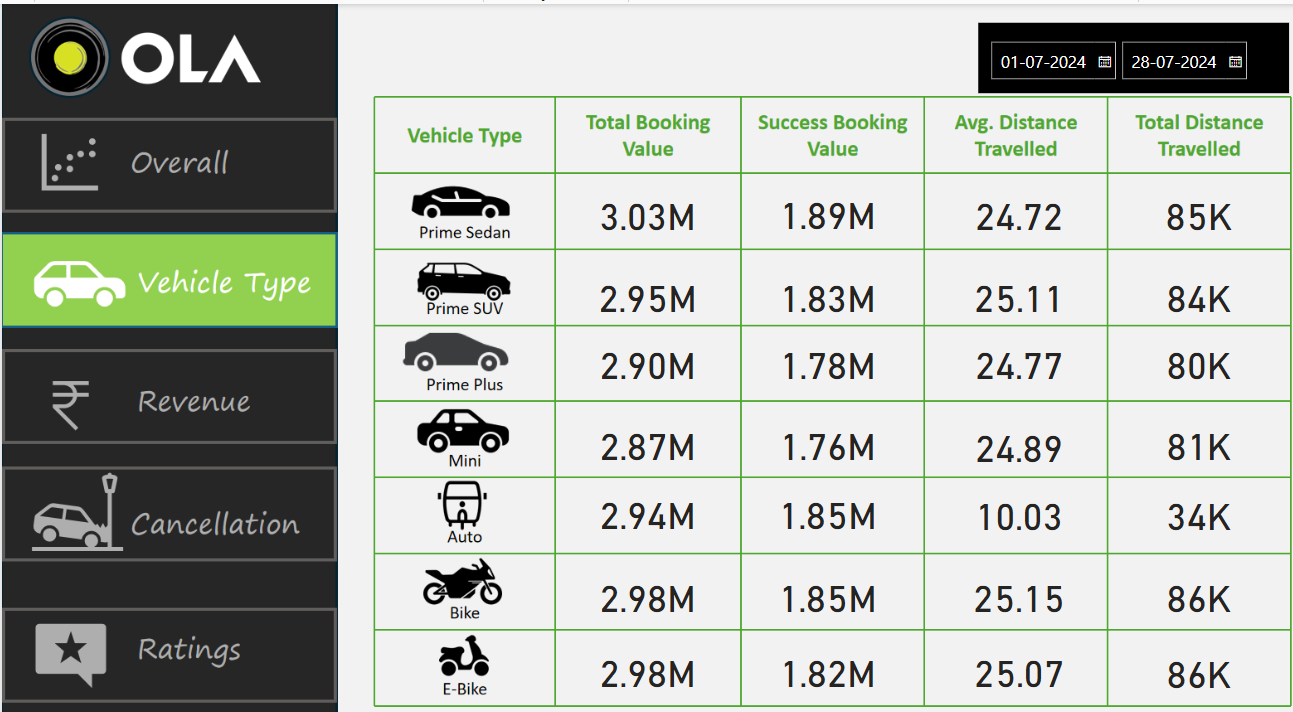

This screenshot's page, from the dashboard's own definition file:
{"tool":"powerbi","page":{"name":"Vehicle Type","canvas":[1280,720],"ordinal":1},"visuals":[{"type":"actionButton","box":[0,109.8,323.3,91.7],"z":0},{"type":"actionButton","box":[0,333,323.3,91.7],"z":1000},{"type":"actionButton","box":[0,446.4,323.3,91.7],"z":2000},{"type":"actionButton","box":[0,582.7,323.3,91.7],"z":3000},{"type":"card","fields":{"Values":["Sum(July.Booking_Value)"]},"box":[536.7,170,173.3,65],"z":4000},{"type":"card","fields":{"Values":["Sum(July.Booking_Value)"]},"box":[536.7,248.3,173.3,65],"z":5000},{"type":"card","fields":{"Values":["Sum(July.Booking_Value)"]},"box":[536.7,313.3,173.3,65],"z":6000},{"type":"card","fields":{"Values":["Sum(July.Booking_Value)"]},"box":[536.7,391.7,173.3,65],"z":7000},{"type":"card","fields":{"Values":["Sum(July.Booking_Value)"]},"box":[536.7,458.3,173.3,65],"z":8000},{"type":"card","fields":{"Values":["Sum(July.Booking_Value)"]},"box":[536.7,538.3,173.3,65],"z":9000},{"type":"card","fields":{"Values":["Sum(July.Booking_Value)"]},"box":[536.7,610,173.3,65],"z":10000},{"type":"card","fields":{"Values":["Sum(July.Booking_Value)"]},"box":[710,168.3,173.3,65],"z":11000},{"type":"card","fields":{"Values":["Sum(July.Booking_Value)"]},"box":[710,248.3,173.3,65],"z":12000},{"type":"card","fields":{"Values":["Sum(July.Booking_Value)"]},"box":[710,313.3,173.3,65],"z":13000},{"type":"card","fields":{"Values":["Sum(July.Booking_Value)"]},"box":[710,391.7,173.3,65],"z":14000},{"type":"card","fields":{"Values":["Sum(July.Booking_Value)"]},"box":[710,458.3,173.3,65],"z":15000},{"type":"card","fields":{"Values":["Sum(July.Booking_Value)"]},"box":[710,538.3,173.3,65],"z":16000},{"type":"card","fields":{"Values":["Sum(July.Booking_Value)"]},"box":[710,610,173.3,65],"z":17000},{"type":"card","fields":{"Values":["Avg(July.Ride_Distance)"]},"box":[895,170,173.3,65],"z":18000},{"type":"card","fields":{"Values":["Avg(July.Ride_Distance)"]},"box":[895,248.3,173.3,65],"z":19000},{"type":"card","fields":{"Values":["Avg(July.Ride_Distance)"]},"box":[895,313.3,173.3,65],"z":20000},{"type":"card","fields":{"Values":["Avg(July.Ride_Distance)"]},"box":[895,393.3,173.3,65],"z":21000},{"type":"card","fields":{"Values":["Avg(July.Ride_Distance)"]},"box":[895,460,173.3,65],"z":22000},{"type":"card","fields":{"Values":["Avg(July.Ride_Distance)"]},"box":[895,538.3,173.3,65],"z":23000},{"type":"card","fields":{"Values":["Avg(July.Ride_Distance)"]},"box":[895,610,173.3,65],"z":24000},{"type":"card","fields":{"Values":["Sum(July.Ride_Distance)"]},"box":[1068.3,170,173.3,65],"z":25000},{"type":"card","fields":{"Values":["Sum(July.Ride_Distance)"]},"box":[1068.3,248.3,173.3,65],"z":26000},{"type":"card","fields":{"Values":["Sum(July.Ride_Distance)"]},"box":[1068.3,313.3,173.3,65],"z":27000},{"type":"card","fields":{"Values":["Sum(July.Ride_Distance)"]},"box":[1068.3,391.7,173.3,65],"z":28000},{"type":"card","fields":{"Values":["Sum(July.Ride_Distance)"]},"box":[1068.3,460,173.3,65],"z":29000},{"type":"card","fields":{"Values":["Sum(July.Ride_Distance)"]},"box":[1068.3,538.3,173.3,65],"z":30000},{"type":"card","fields":{"Values":["Sum(July.Ride_Distance)"]},"box":[1068.3,611.7,173.3,65],"z":31000},{"type":"slicer","fields":{"Values":["July.Date"]},"box":[941.7,18.3,300,68.3],"z":32000}]}

Visuals, with their boxes on the page's 1280x720 design canvas (x1, y1, x2, y2). These are canvas units, not pixel positions in the 1293x712 screenshot, which may show the page scaled, cropped or inside an application window:
actionButton: Rect(0, 110, 323, 202)
actionButton: Rect(0, 333, 323, 425)
actionButton: Rect(0, 446, 323, 538)
actionButton: Rect(0, 583, 323, 674)
card - Sum(July.Booking_Value): Rect(537, 170, 710, 235)
card - Sum(July.Booking_Value): Rect(537, 248, 710, 313)
card - Sum(July.Booking_Value): Rect(537, 313, 710, 378)
card - Sum(July.Booking_Value): Rect(537, 392, 710, 457)
card - Sum(July.Booking_Value): Rect(537, 458, 710, 523)
card - Sum(July.Booking_Value): Rect(537, 538, 710, 603)
card - Sum(July.Booking_Value): Rect(537, 610, 710, 675)
card - Sum(July.Booking_Value): Rect(710, 168, 883, 233)
card - Sum(July.Booking_Value): Rect(710, 248, 883, 313)
card - Sum(July.Booking_Value): Rect(710, 313, 883, 378)
card - Sum(July.Booking_Value): Rect(710, 392, 883, 457)
card - Sum(July.Booking_Value): Rect(710, 458, 883, 523)
card - Sum(July.Booking_Value): Rect(710, 538, 883, 603)
card - Sum(July.Booking_Value): Rect(710, 610, 883, 675)
card - Avg(July.Ride_Distance): Rect(895, 170, 1068, 235)
card - Avg(July.Ride_Distance): Rect(895, 248, 1068, 313)
card - Avg(July.Ride_Distance): Rect(895, 313, 1068, 378)
card - Avg(July.Ride_Distance): Rect(895, 393, 1068, 458)
card - Avg(July.Ride_Distance): Rect(895, 460, 1068, 525)
card - Avg(July.Ride_Distance): Rect(895, 538, 1068, 603)
card - Avg(July.Ride_Distance): Rect(895, 610, 1068, 675)
card - Sum(July.Ride_Distance): Rect(1068, 170, 1242, 235)
card - Sum(July.Ride_Distance): Rect(1068, 248, 1242, 313)
card - Sum(July.Ride_Distance): Rect(1068, 313, 1242, 378)
card - Sum(July.Ride_Distance): Rect(1068, 392, 1242, 457)
card - Sum(July.Ride_Distance): Rect(1068, 460, 1242, 525)
card - Sum(July.Ride_Distance): Rect(1068, 538, 1242, 603)
card - Sum(July.Ride_Distance): Rect(1068, 612, 1242, 677)
slicer - July.Date: Rect(942, 18, 1242, 87)
